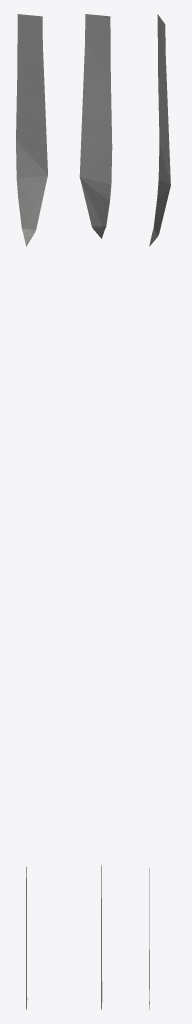
The picture shows the model from 3 angles, left to right: view 1: azimuth 30°, elevation 25°; view 2: azimuth 210°, elevation 25°; view 3: azimuth 330°, elevation 25°; orthographic projection.
Size of the model in its own units: 0.0193 by 0.8374 by 0.0159.
1 material, 1 textured.
